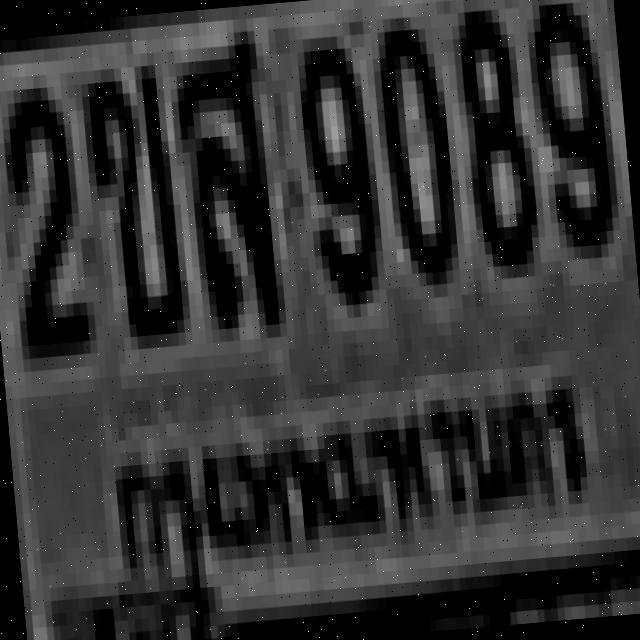0: (368, 2, 452, 275)
11KhorKhai: (76, 58, 180, 333)
2: (0, 72, 86, 346)
49SorSuea: (165, 24, 279, 325)
8: (448, 0, 533, 268)
9: (287, 22, 378, 296), (524, 0, 614, 249)
Bangkok: (76, 351, 610, 599)
